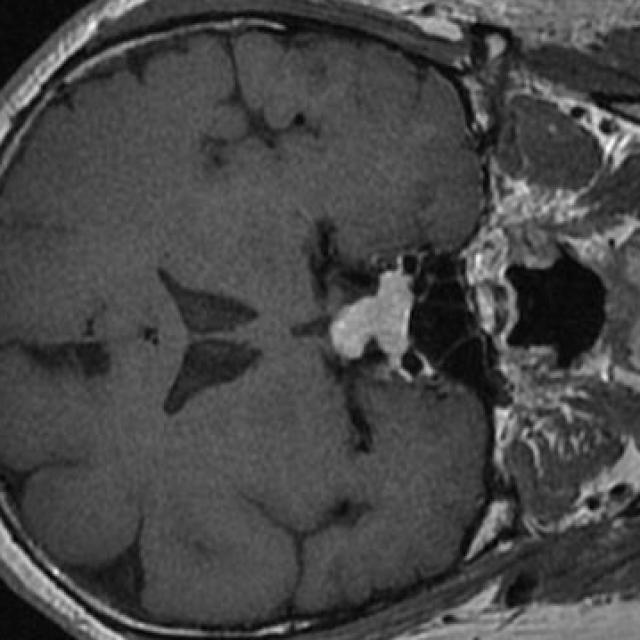pituitary: (330, 273, 412, 358)
